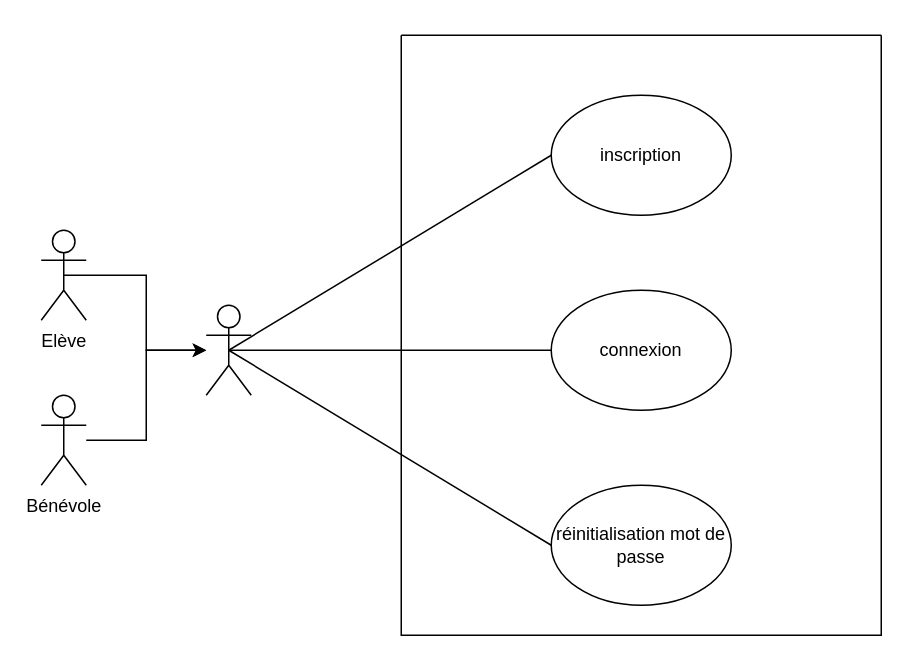
Image size: 908x662. Some labels were removed from this diagram. The shapes that lost their labels are listed below. From the top down, each one's box as (x1, y1, x2, y2) in pixels, then its label:
(205, 304, 251, 395): User
(400, 34, 881, 635): system
